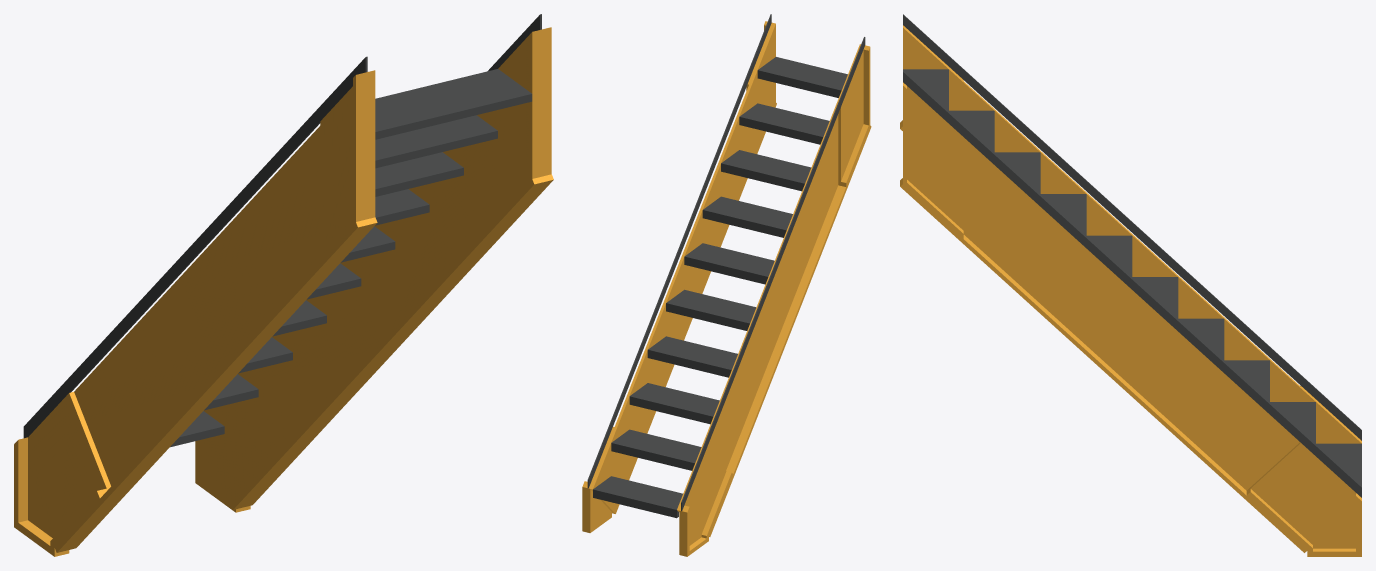
The model's file is Stairs_1.fbx.
3 views of the same model, side by side, from view 1: azimuth 30°, elevation 25°; view 2: azimuth 150°, elevation 25°; view 3: azimuth 270°, elevation 25° (orthographic). The views are drawn at different scales.
Parts seen in each view (by area): view 1: Stairs_1; view 2: Stairs_1; view 3: Stairs_1.
Part boxes in pixels (x1,y1,x2,y2): Stairs_1: [14, 14, 553, 556]; Stairs_1: [582, 14, 871, 556]; Stairs_1: [900, 14, 1361, 556].
Size of the model in its own units: 132 by 464 by 403.
